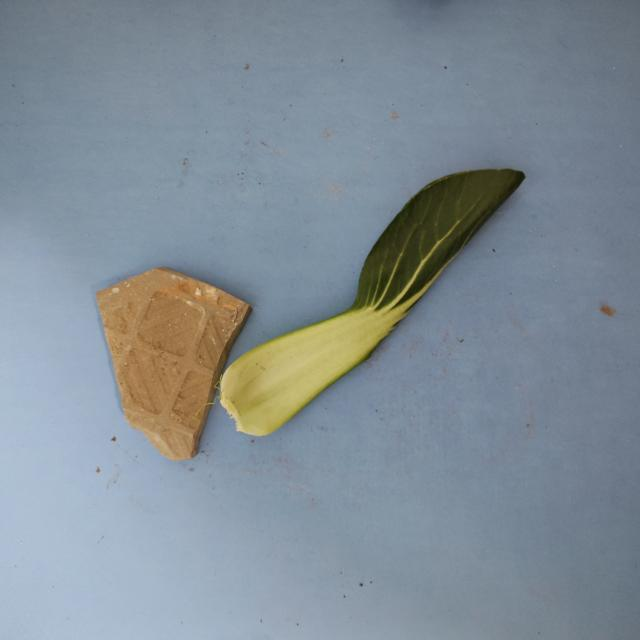-Kitchen waste - vegetable roots and leaves-: (219, 160, 527, 446)
-Other waste - ceramic-: (92, 262, 257, 466)
